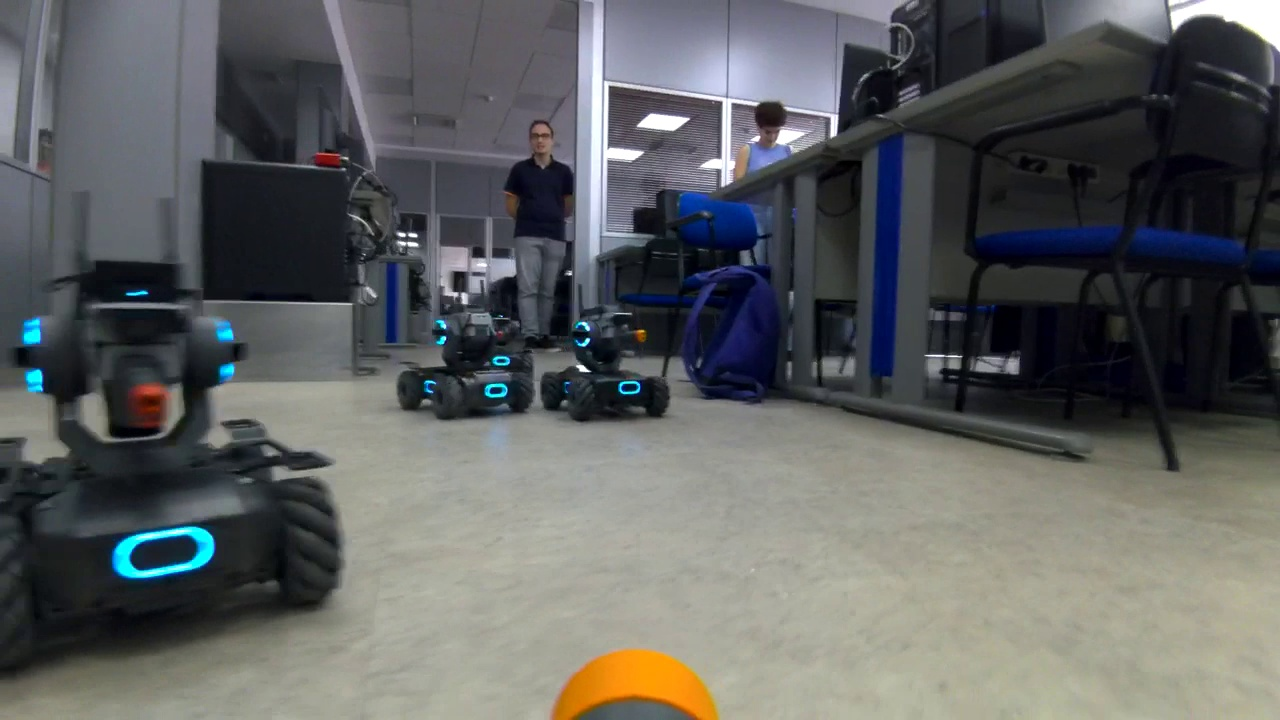robot: (1, 191, 351, 689), (380, 281, 539, 416), (542, 281, 676, 427)
